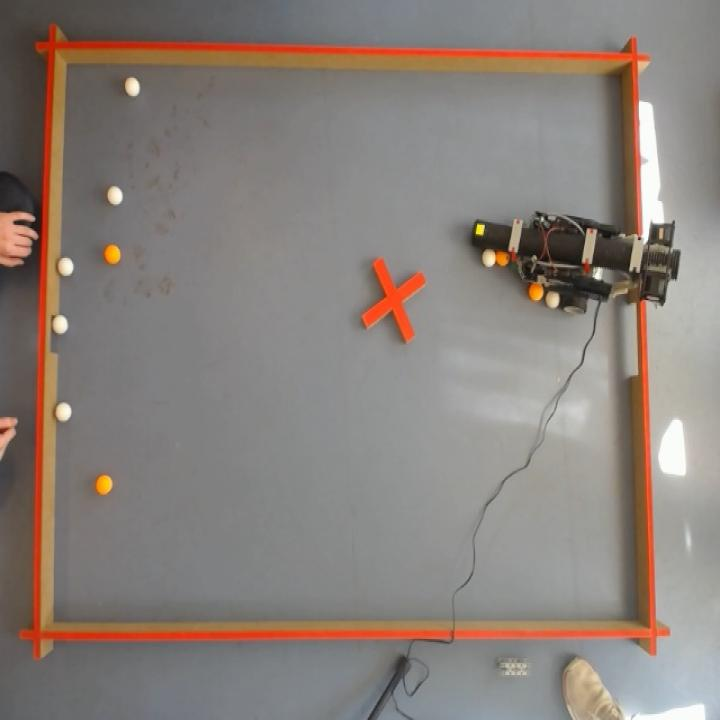orange: (92, 472, 115, 500), (103, 242, 123, 268), (529, 282, 543, 302), (497, 250, 510, 266)
robot: (471, 212, 682, 314)
robot-front: (472, 220, 507, 250)
white: (103, 182, 125, 209), (121, 75, 142, 102), (53, 400, 74, 426), (56, 256, 77, 280), (50, 313, 70, 337), (546, 291, 559, 308), (483, 250, 495, 267)
